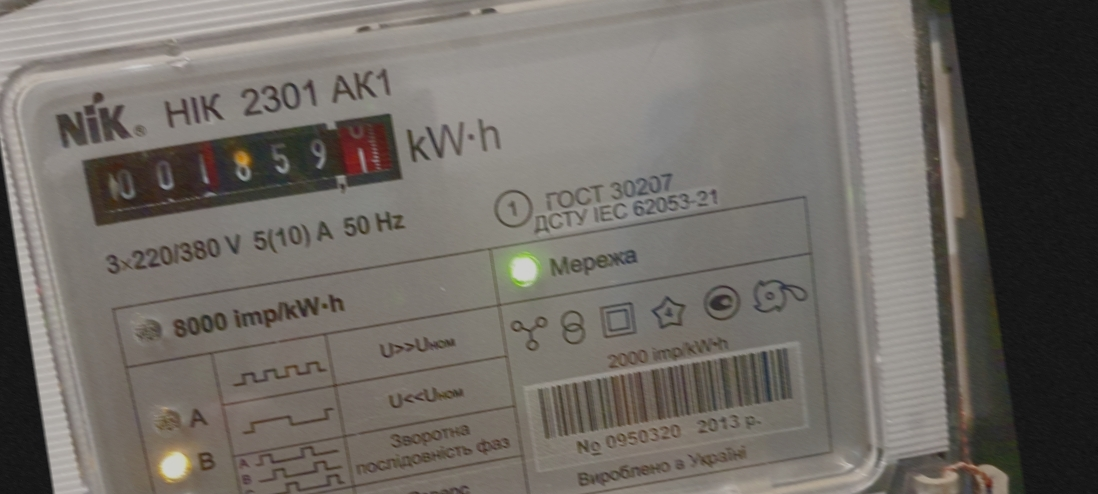0: (114, 165, 138, 203), (152, 156, 176, 192)
1: (195, 150, 212, 187), (354, 143, 370, 175)
5: (268, 138, 293, 177)
8: (230, 146, 255, 184)
9: (306, 135, 330, 171)
screen: (69, 99, 414, 238)
